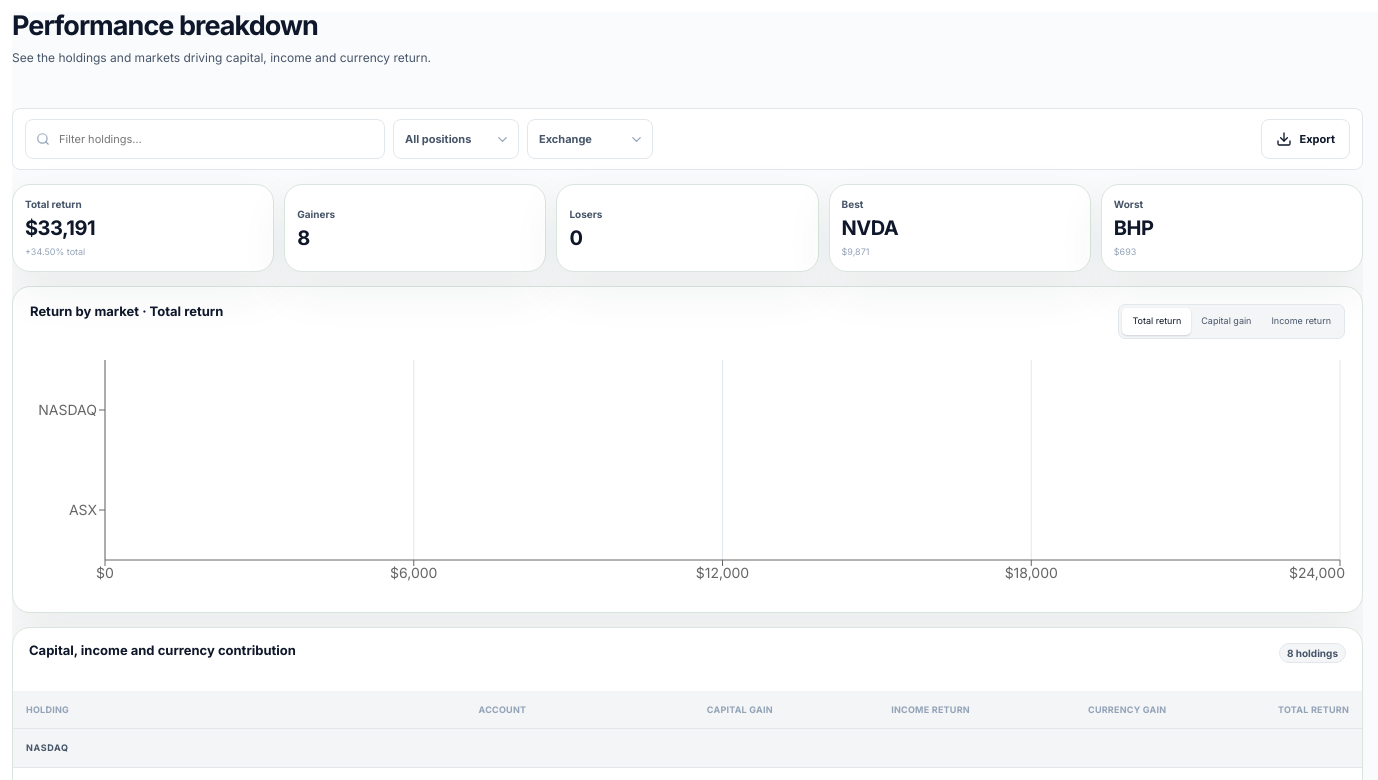
Test: Navexa-depth workspace routes › renders the performance controls, metrics and grouped ledger
This screenshot has width=1378, height=780.
Expected: the button "Total return" is shown, [1122,308,1191,334]
Click the button "Income return" at (1301, 321), box [1262,308,1341,334]
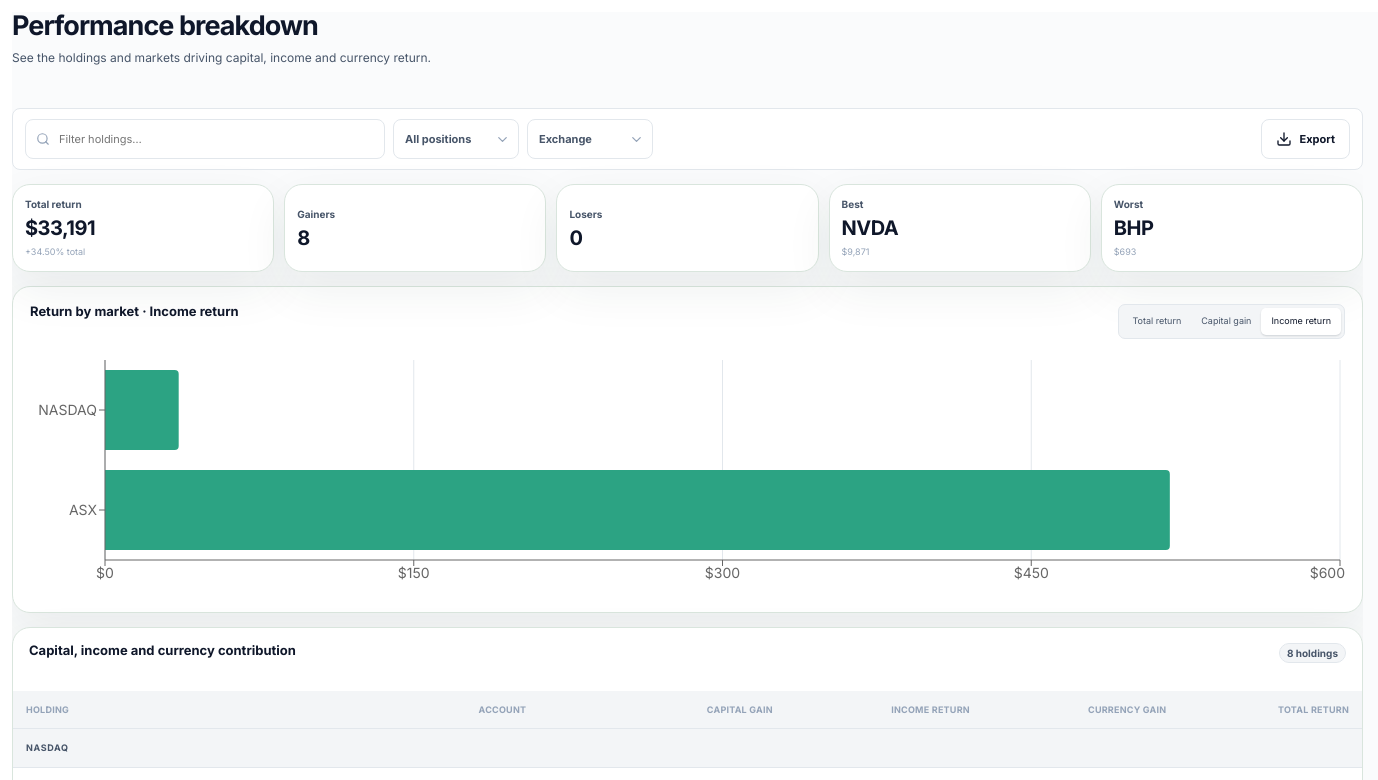
Expected: the heading "Capital, income and currency contribution" is shown, [29,642,296,658]
Expected: the heading "Return by market · Income return" is shown, [30,304,239,319]
